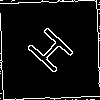H: (25, 25, 83, 82)
